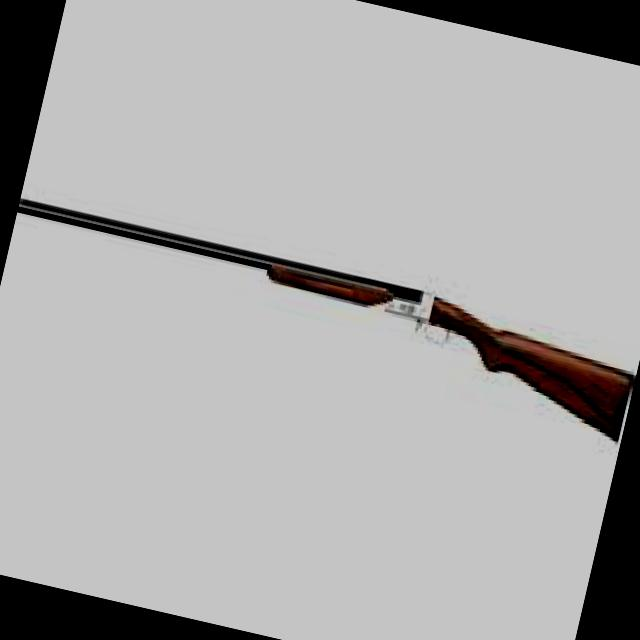long weapon: (11, 168, 640, 455)
